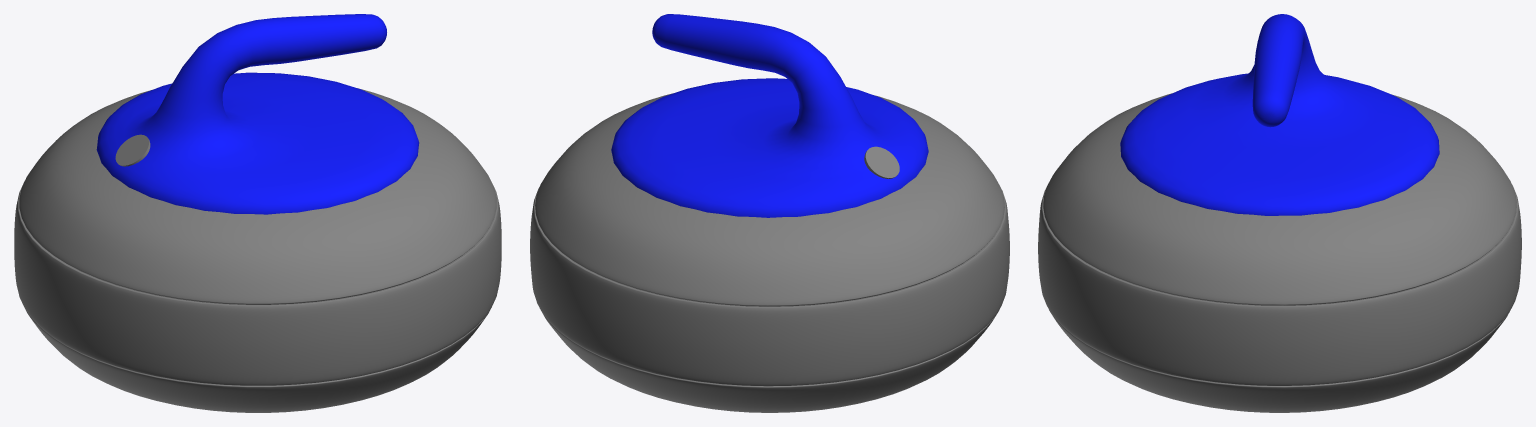
The model's file is Stone BLue.FBX.
3 views of the same model, side by side, from view 1: azimuth 30°, elevation 25°; view 2: azimuth 150°, elevation 25°; view 3: azimuth 270°, elevation 25° (orthographic).
Parts seen in each view (by area): view 1: red handle 5; view 2: red handle 5; view 3: red handle 5.
Part boxes in pixels (left/top/right/bottom): red handle 5: left=14, top=14, right=501, bottom=412; red handle 5: left=530, top=14, right=1009, bottom=412; red handle 5: left=1038, top=14, right=1521, bottom=412.
Size of the model in its own units: 9.3 by 6.77 by 9.3.
